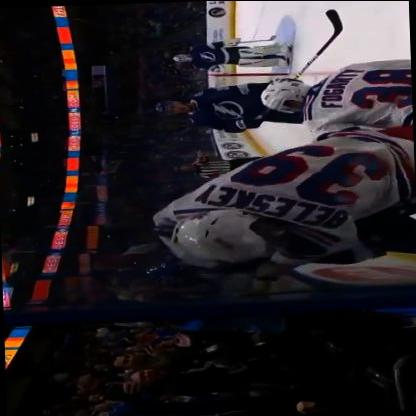non-Voilence: (152, 80, 310, 136), (167, 34, 298, 76)
voilence: (142, 126, 415, 282)
